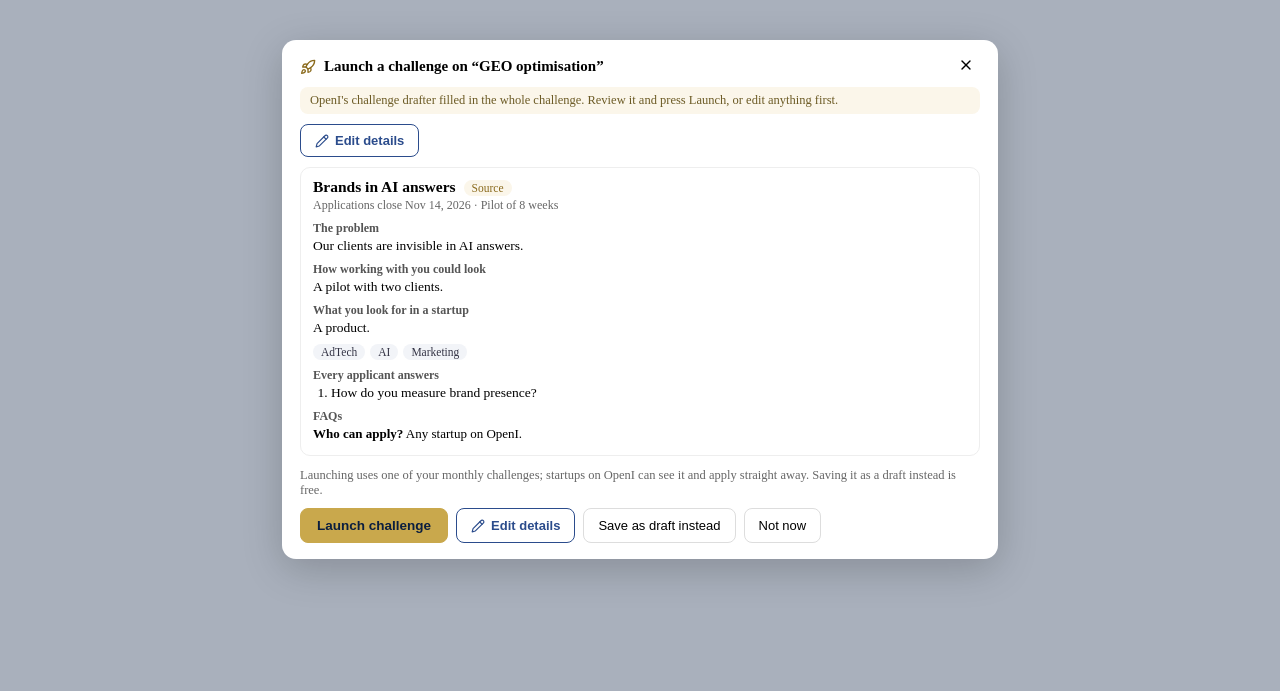
Test: LaunchChallengeSheet — the whole challenge, then just Launch › "Edit details" is a real button above the challenge and beside Launch; either opens the editor
Expected: the 3rd icon is shown, [315,134,329,148]
What coordinates should you click on to do the following:
click the button with test id "launch-edit-top"
I would click on:
 (360, 140)
Its box is [300,124,419,157].
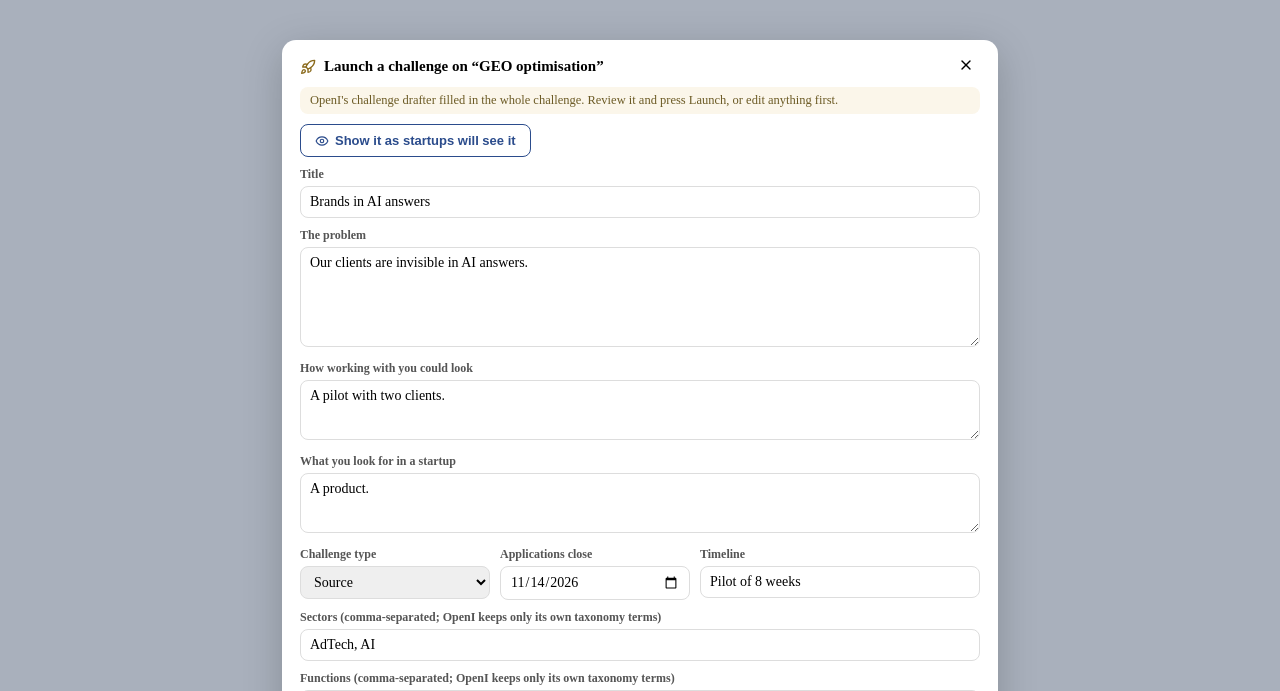
Result: the field with test id "launch-title" is shown at [300,186,980,218]
Result: the button with test id "launch-edit-top" reads "Show it as startups will see it" at [300,124,531,157]
